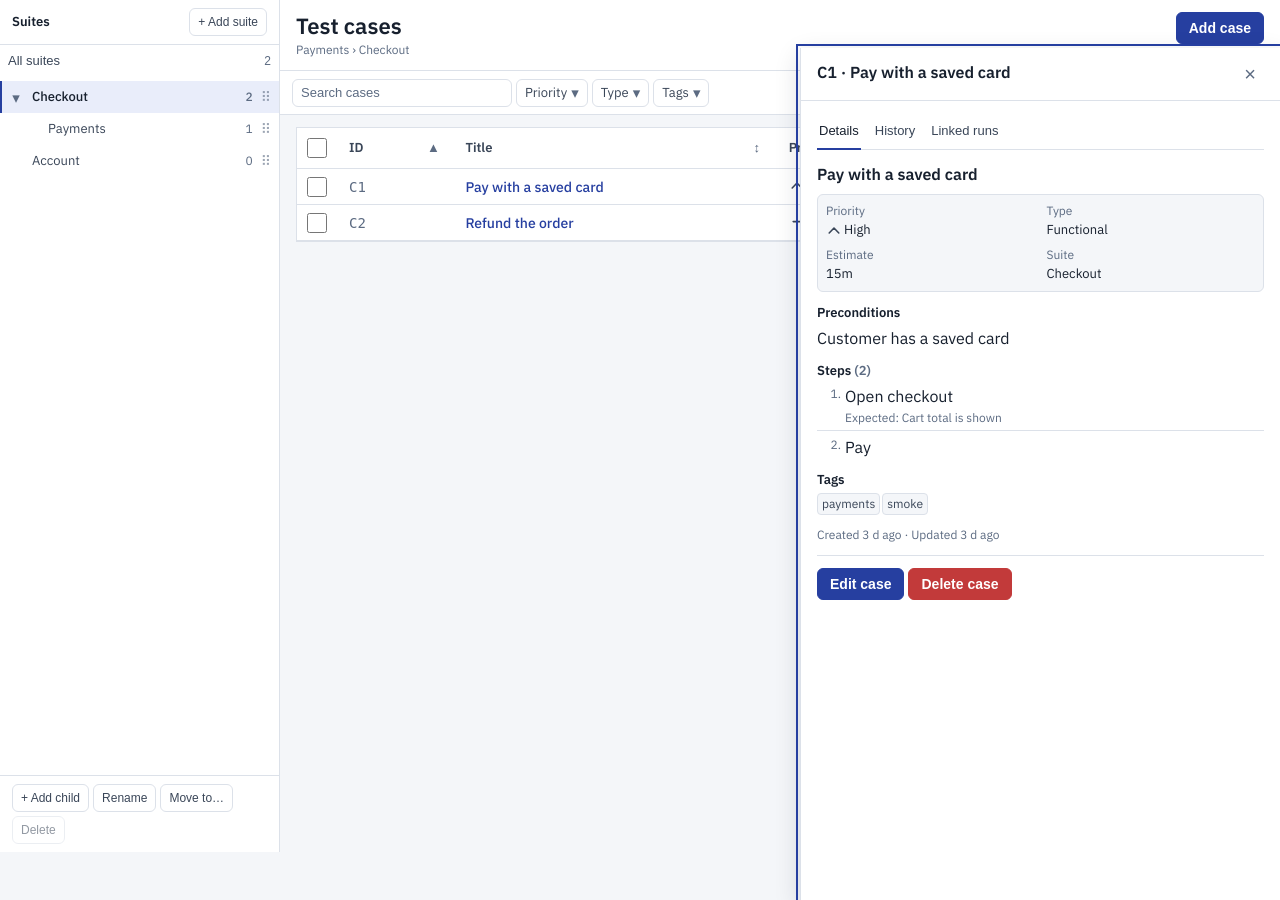
Scenario: cases screen › renders the History tab without raw JSON
Click the tab "History": x=895, y=131 [873,113,917,149]
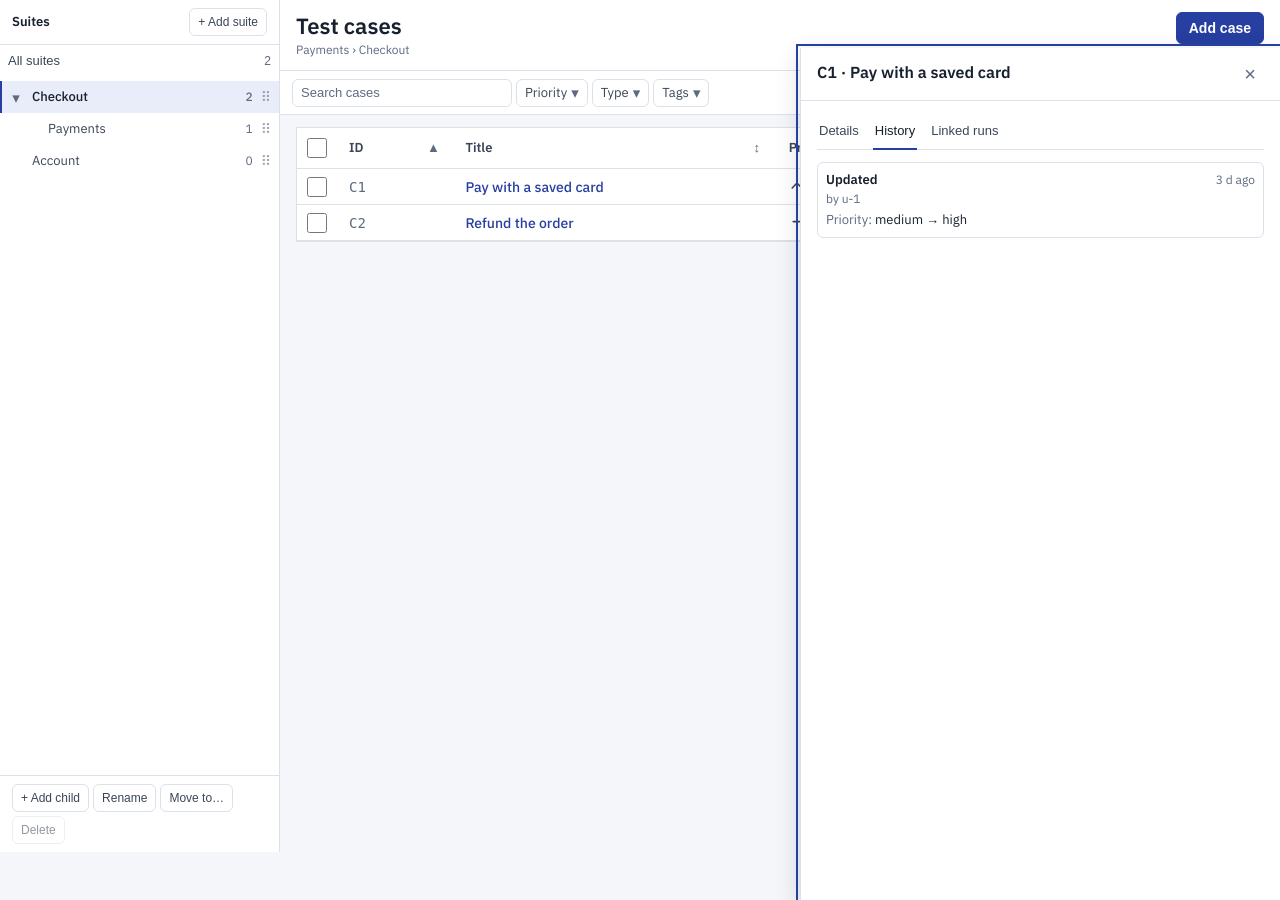
Expected: the text "Updated" is shown, [826,171,878,189]
Now the text "Priority:" is shown, box [826,211,872,228]
Now the list item "Priority: medium → high" is shown, box [826,211,967,228]
